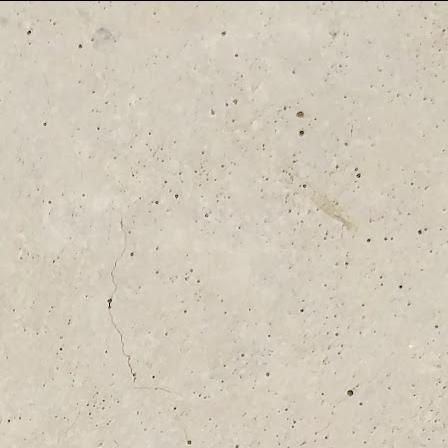crack: (72, 207, 187, 418)
